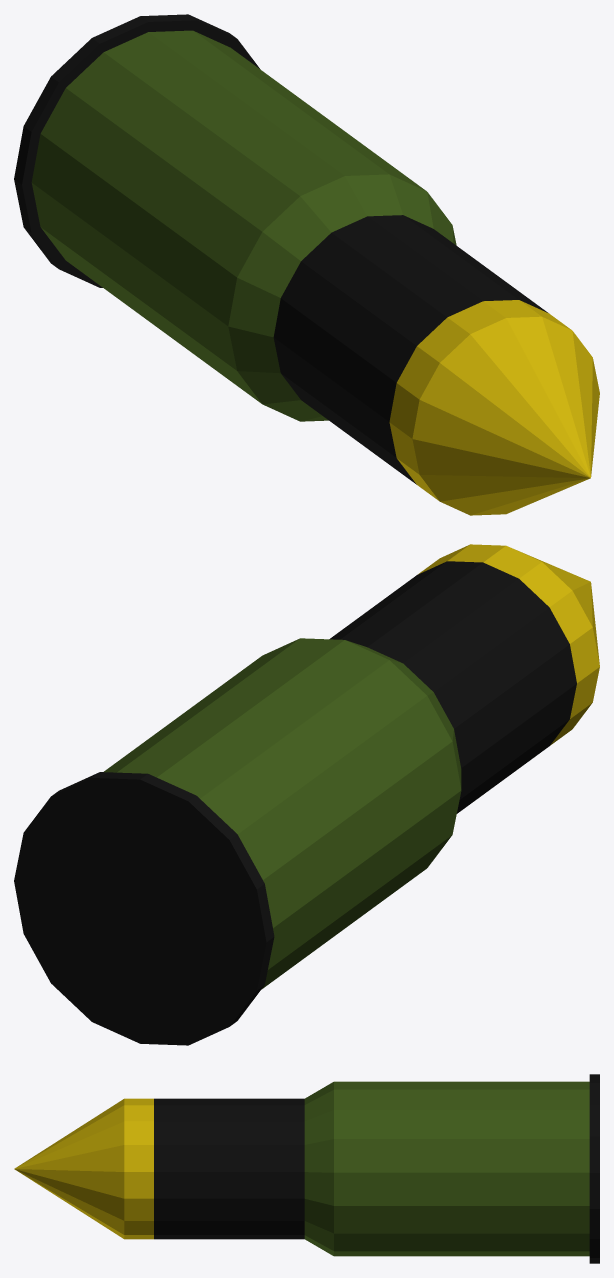
The model's file is bullet_1_green.fbx.
3 renders of one model, top to bottom at view 1: azimuth 30°, elevation 25°; view 2: azimuth 150°, elevation 25°; view 3: azimuth 270°, elevation 25°, orthographic. The views are drawn at different scales.
Parts seen in each view (by area): view 1: Bullet1_Green; view 2: Bullet1_Green; view 3: Bullet1_Green.
Part boxes in pixels (box(x1,y1,x2,y2)): Bullet1_Green: box(14, 14, 599, 515); Bullet1_Green: box(14, 544, 599, 1045); Bullet1_Green: box(14, 1074, 599, 1263).
Size of the model in its own units: 16.31 by 16.31 by 50.43.
